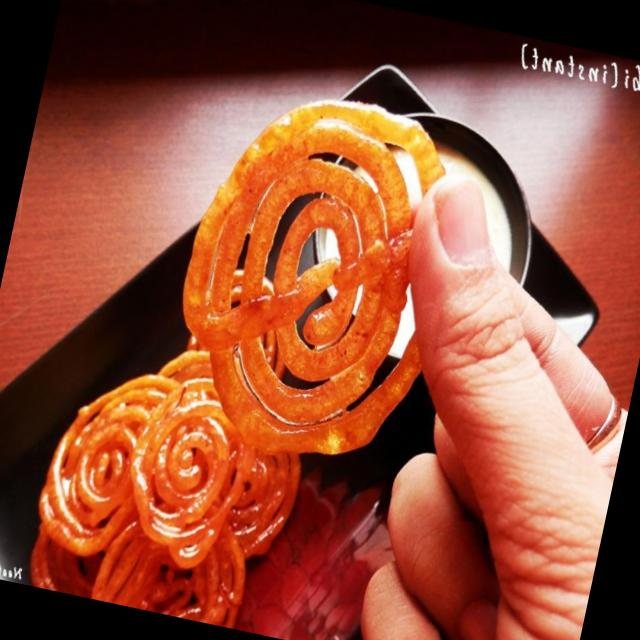jalebi: (178, 79, 472, 466), (15, 315, 340, 637)
